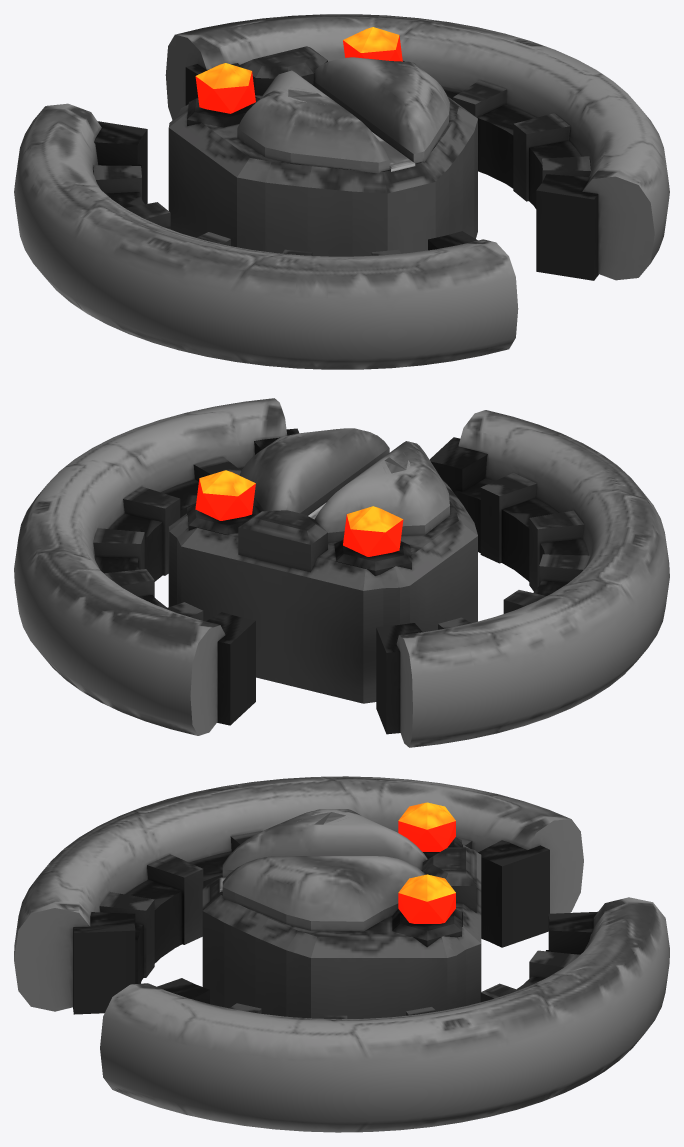
File: newsh2-229-f8.glb
3 views of the same model, one above another, from view 1: azimuth 30°, elevation 25°; view 2: azimuth 150°, elevation 25°; view 3: azimuth 270°, elevation 25° (orthographic).
Parts seen in each view (by area): view 1: newsh2-229-f8; view 2: newsh2-229-f8; view 3: newsh2-229-f8.
Boxes of the visible parts, <box> form: newsh2-229-f8: <box>14,14,669,369</box>; newsh2-229-f8: <box>14,398,669,747</box>; newsh2-229-f8: <box>14,776,669,1132</box>.
Bounding box in the file's own units: 1.77 × 0.5154 × 1.76.
Materials: 9 (9 with a texture image).
